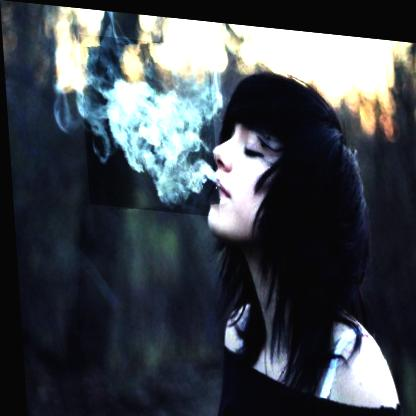smoke: (78, 32, 217, 213)
